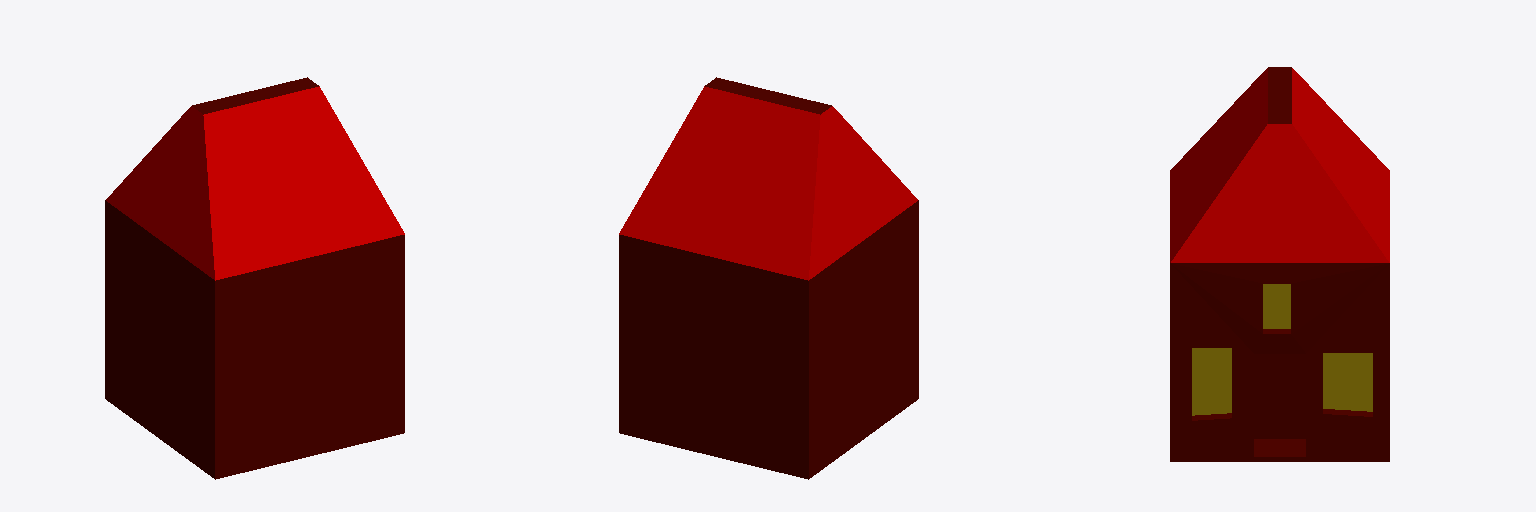
The model's file is casinha.obj.
The picture shows the model from 3 angles: view 1: azimuth 30°, elevation 25°; view 2: azimuth 150°, elevation 25°; view 3: azimuth 270°, elevation 25°; orthographic projection.
Parts seen in each view (by area): view 1: Cube; view 2: Cube; view 3: Cube.
Boxes of the visible parts, x1=… form: Cube: x1=105, y1=77, x2=404, y2=479; Cube: x1=619, y1=77, x2=918, y2=479; Cube: x1=1170, y1=67, x2=1389, y2=461.
Bounding box in the file's own units: 2.21 × 3.53 × 2.19.